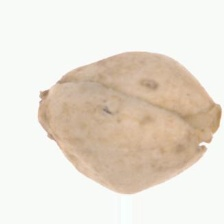L1: (180, 98, 222, 158), (36, 73, 66, 141)
L2: (35, 49, 224, 196)
